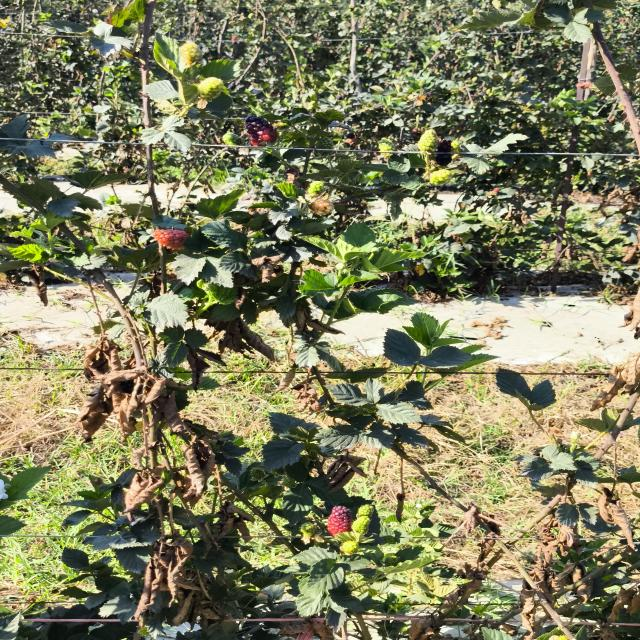marron: (245, 115, 278, 145)
naranja: (327, 506, 353, 535), (153, 229, 188, 248), (309, 199, 334, 215)
verde: (197, 77, 224, 100), (179, 42, 202, 67), (300, 522, 323, 544), (417, 129, 437, 153), (378, 138, 395, 160), (429, 169, 452, 185), (352, 516, 370, 534), (222, 131, 243, 145), (307, 181, 325, 195), (314, 137, 334, 149), (340, 541, 358, 554), (357, 505, 374, 518)
